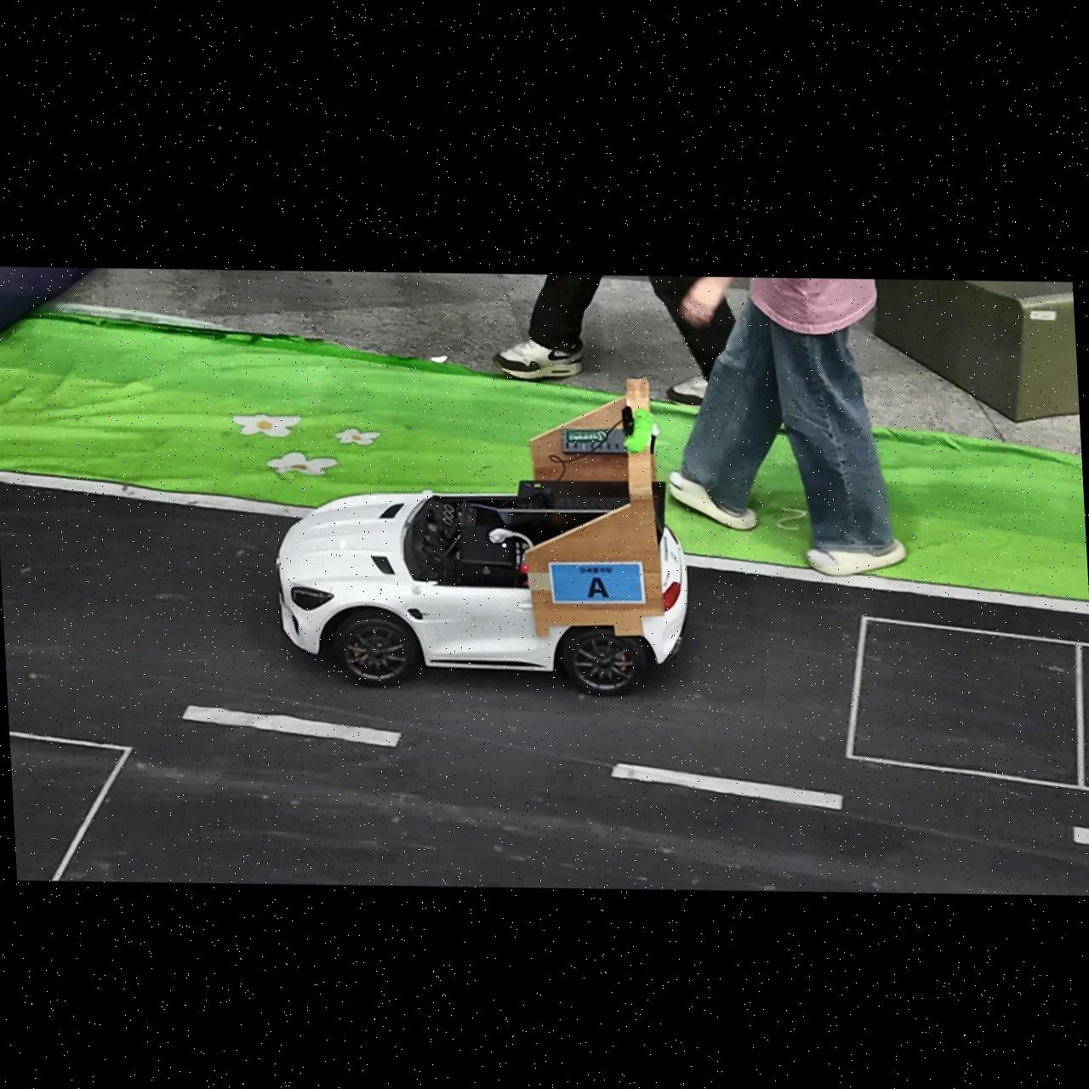broken_line: (611, 763, 843, 809), (182, 705, 400, 747), (1072, 826, 1089, 845)
